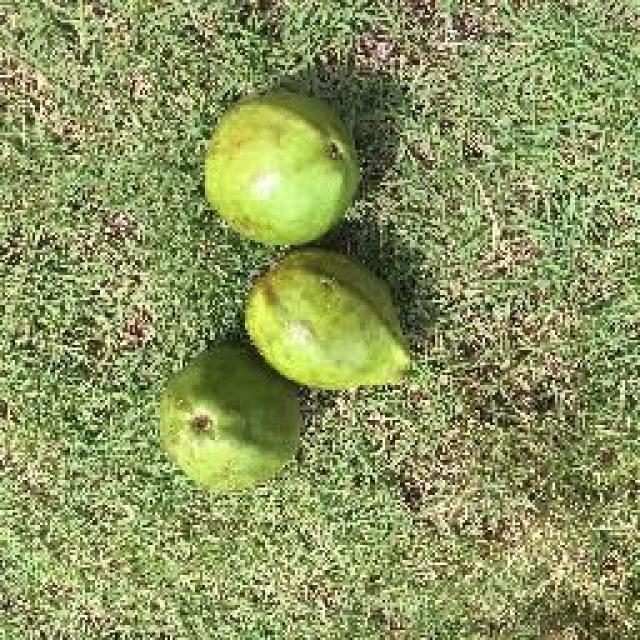Good_Guava: (202, 90, 358, 248)
